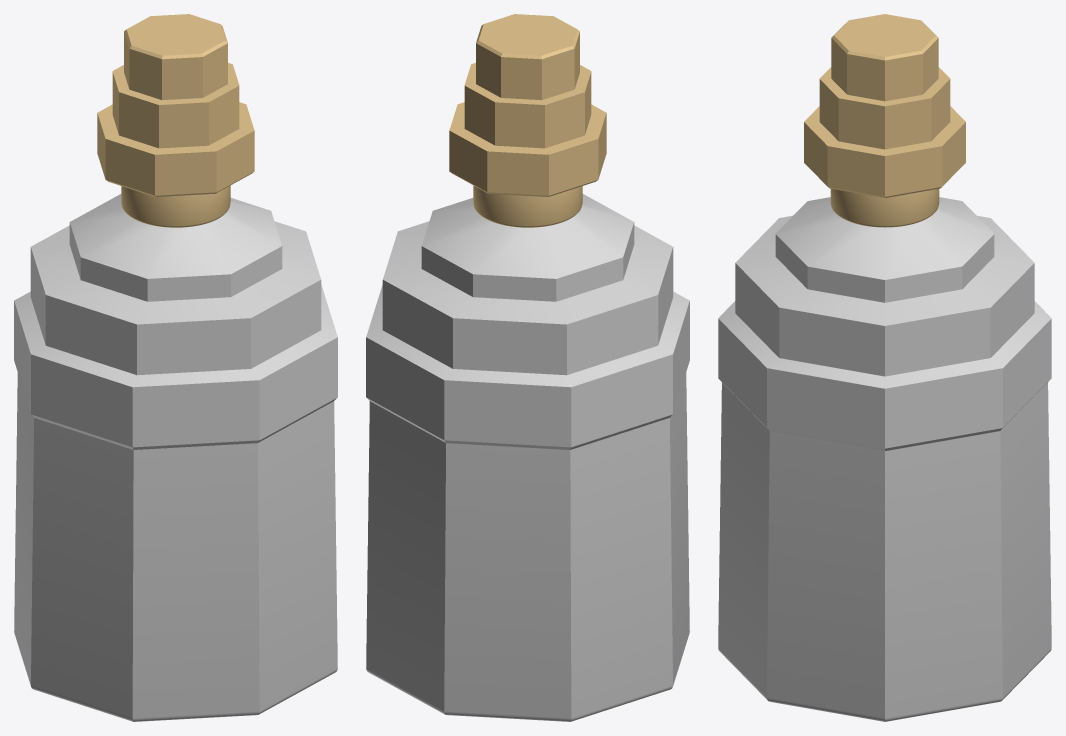
File: artdeco-chrysler.glb
3 views of the same model, side by side, from view 1: azimuth 30°, elevation 25°; view 2: azimuth 150°, elevation 25°; view 3: azimuth 270°, elevation 25° (orthographic).
Parts seen in each view (by area): view 1: Glass_Body, Cap, Collar; view 2: Glass_Body, Cap, Collar; view 3: Glass_Body, Cap, Collar.
Boxes of the visible parts, <box> form: Glass_Body: <box>14,194,337,721</box>; Cap: <box>97,14,254,196</box>; Collar: <box>121,185,230,227</box>; Glass_Body: <box>366,194,689,721</box>; Cap: <box>449,14,606,196</box>; Collar: <box>473,185,582,227</box>; Glass_Body: <box>718,197,1051,721</box>; Cap: <box>804,14,965,197</box>; Collar: <box>830,188,939,227</box>.
Size of the model in its own units: 0.0634 by 0.1296 by 0.0634.
